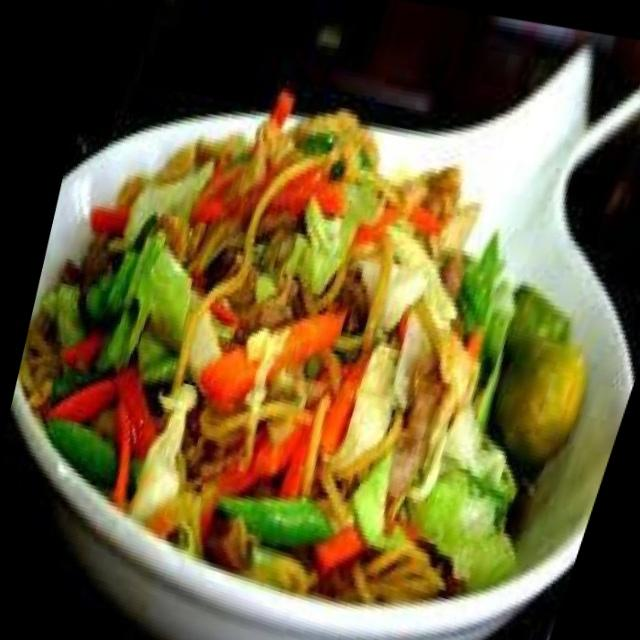pancit bihon: (20, 125, 516, 613)
